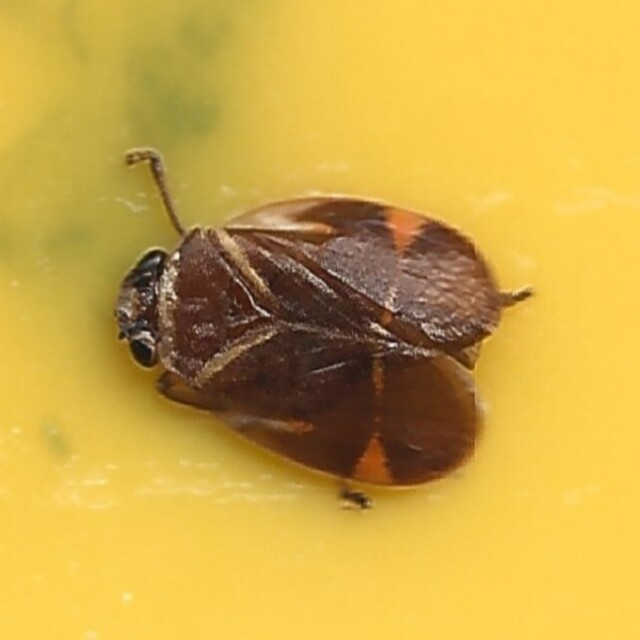Hemiptera: (107, 139, 533, 501)
